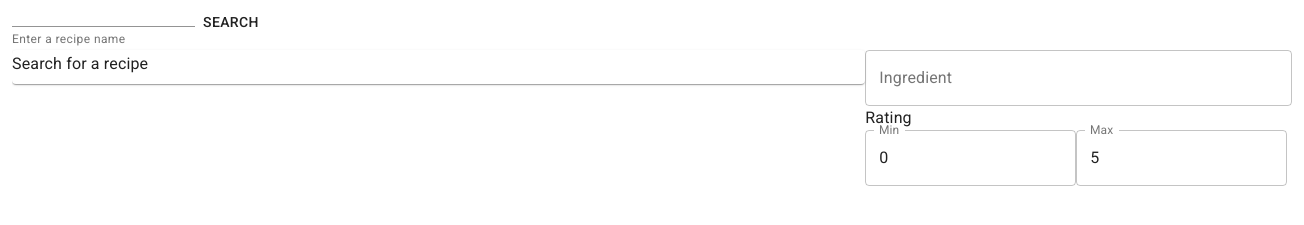
Test: tests for RecipeBrowser › tests for BrowserSearchOptions › if ratingMax < ratingMin an error will be displayed
Replace the text in the field with test id "maxRatingInput" with "2": (1182, 158) [1076,130,1287,186]
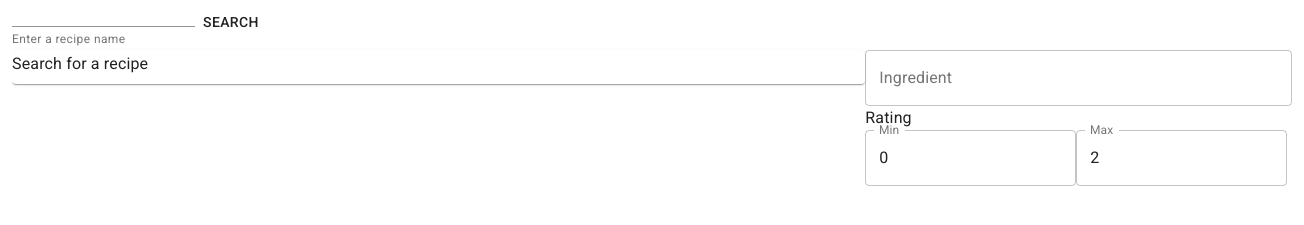
Replace the text in the field with test id "minRatingInput" with "4": (971, 158) [865,130,1076,186]
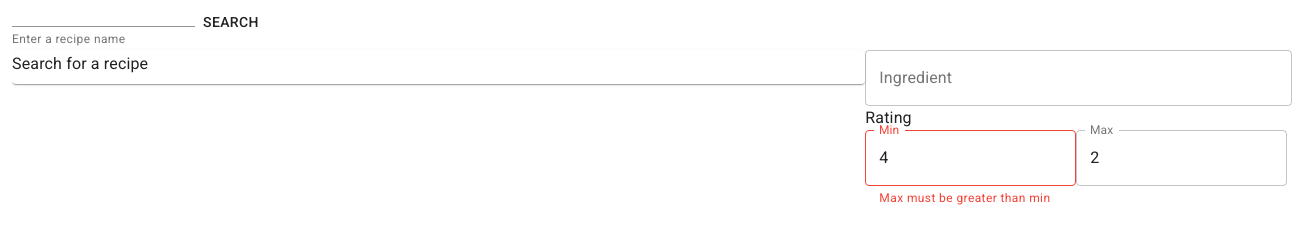
Expected: the text "Max must be greater than min" is shown, [879,189,1062,209]
